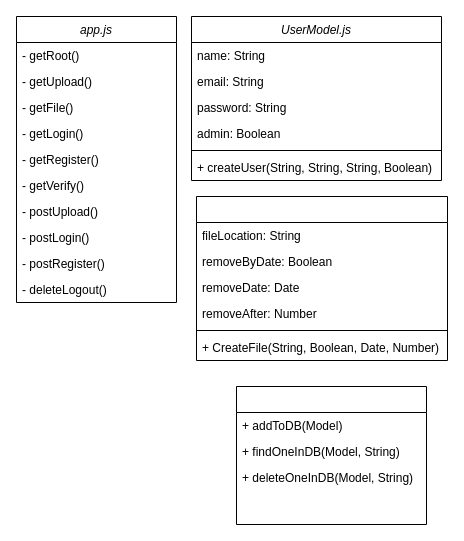
This 464x541 diagram has some shape labels left out. The shapes that lost their labels are listed below. From the top down, each one's box as (x1, y1, x2, y2) in pixels, then its label:
(196, 196, 448, 360): FileModel.js
(236, 386, 426, 524): dbModule.js
